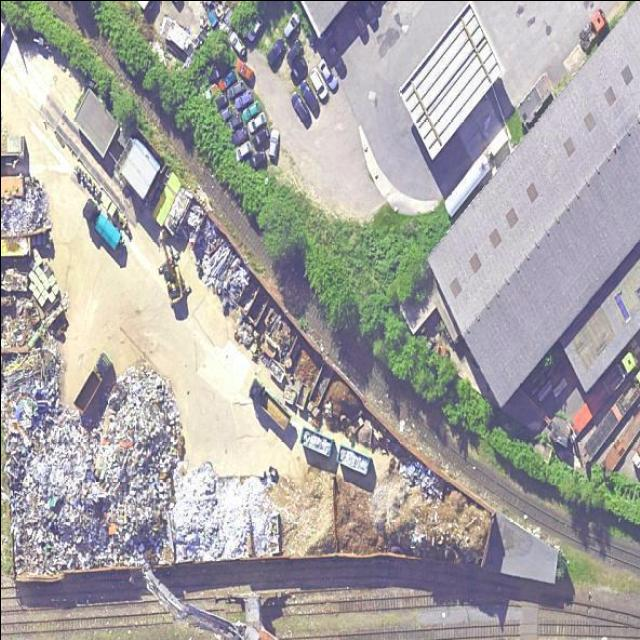dump_site: (0, 348, 181, 573), (173, 465, 273, 562), (184, 212, 251, 312), (0, 286, 67, 346), (398, 448, 445, 502), (0, 183, 48, 231), (260, 301, 298, 358), (179, 195, 207, 239), (233, 312, 260, 353)
